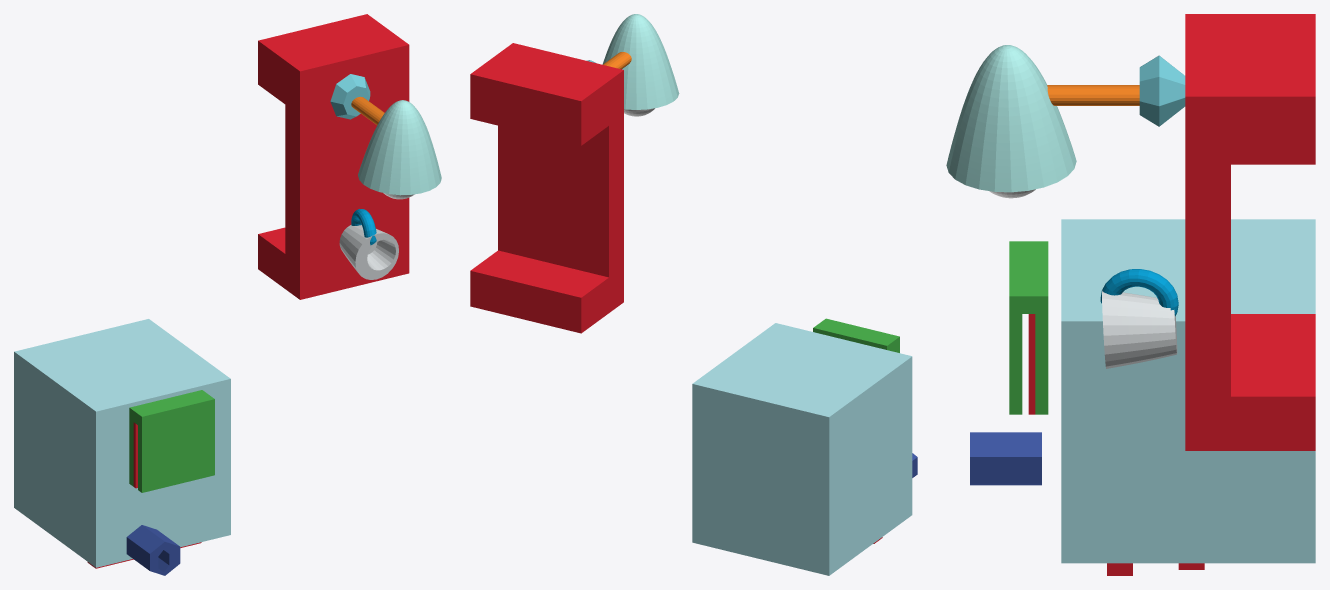
File: tinker.obj
The picture shows the model from 3 angles, left to right: view 1: azimuth 30°, elevation 25°; view 2: azimuth 150°, elevation 25°; view 3: azimuth 270°, elevation 25°; orthographic projection. The views are drawn at different scales.
Parts seen in each view (by area): view 1: group_0_11593967, group_0_15277357, group_0_4634441, group_0_11595754, group_0_14541540, group_0_3888547, group_0_7720667; view 2: group_0_11593967, group_0_15277357, group_0_11595754, group_0_4634441; view 3: group_0_11593967, group_0_15277357, group_0_11595754, group_0_4634441, group_0_14541540, group_0_3888547, group_0_7720667, group_0_16089887, group_0_40919.
Boxes of the visible parts, left/top/right/bottom form: group_0_11593967: left=14, top=319, right=230, bottom=567; group_0_15277357: left=87, top=14, right=409, bottom=568; group_0_4634441: left=129, top=390, right=214, bottom=492; group_0_11595754: left=358, top=100, right=441, bottom=195; group_0_14541540: left=339, top=225, right=398, bottom=279; group_0_3888547: left=126, top=525, right=180, bottom=575; group_0_7720667: left=330, top=74, right=370, bottom=119; group_0_11593967: left=692, top=323, right=912, bottom=575; group_0_15277357: left=470, top=43, right=882, bottom=543; group_0_11595754: left=602, top=14, right=679, bottom=109; group_0_4634441: left=813, top=318, right=899, bottom=352; group_0_11593967: left=1061, top=219, right=1315, bottom=563; group_0_15277357: left=1028, top=14, right=1315, bottom=575; group_0_11595754: left=946, top=45, right=1076, bottom=192; group_0_4634441: left=1009, top=241, right=1048, bottom=414; group_0_14541540: left=1102, top=290, right=1177, bottom=368; group_0_3888547: left=970, top=432, right=1041, bottom=485; group_0_7720667: left=1139, top=55, right=1185, bottom=126; group_0_16089887: left=1047, top=85, right=1139, bottom=105; group_0_40919: left=1100, top=269, right=1178, bottom=316.
Size of the model in its own units: 97 by 111 by 56.64.
